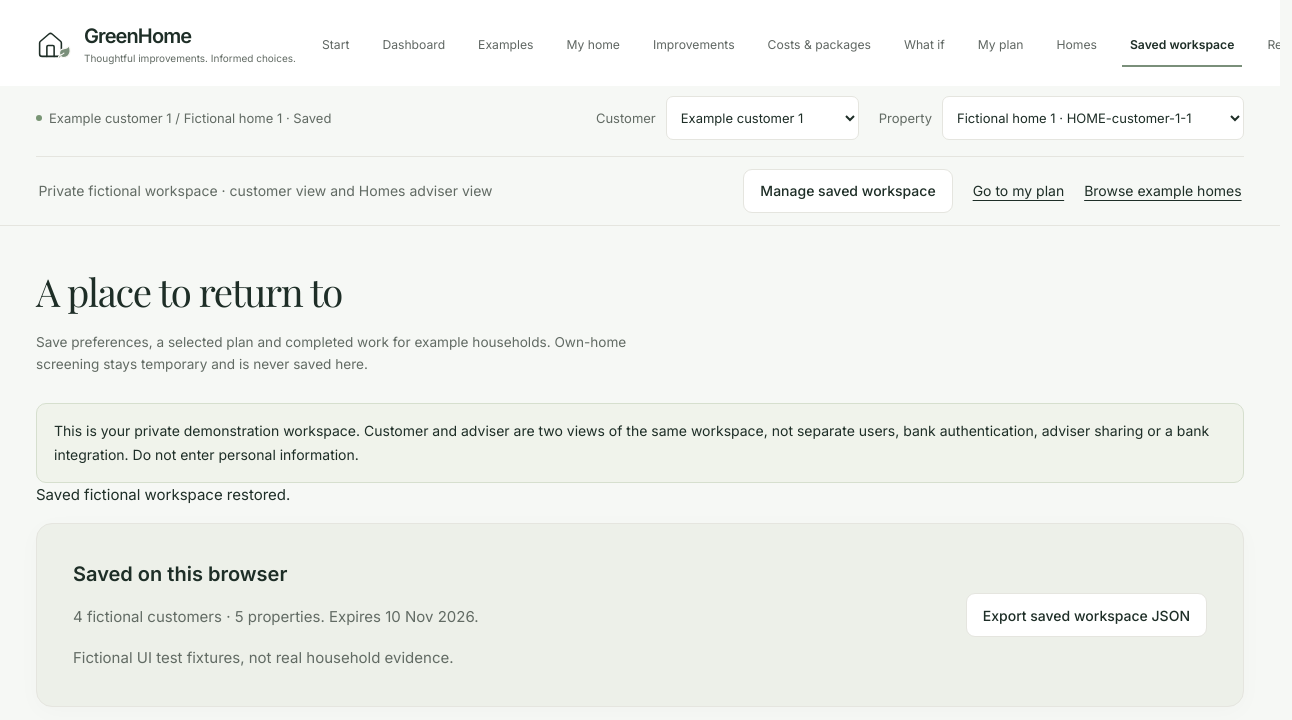
customer-wide settings, independent budgets and asynchronous boundaries › prints owner/property identifiers and distinguishes active-plan budget from reserved completed costs
expect the dropdown labelled "Customer" is enabled: met, box [666,96,859,140]
What coordinates should you click on to do the following:
click the link "My plan"
I would click on:
 (1001, 44)
Its box is [978,36,1024,52].
(page scrolled)
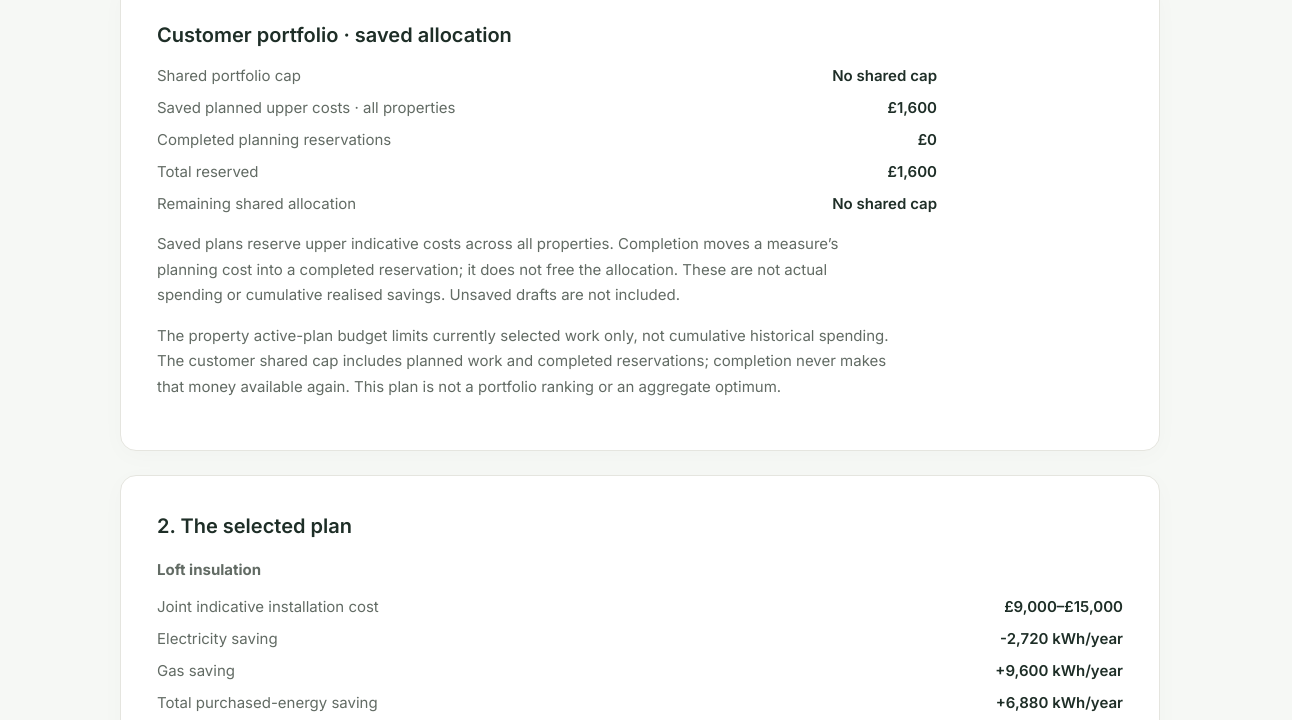
expect the text "Completed planning reservations" is shown: met, box [157,130,391,149]
expect the text "completion never makes that money available again" is shown: met, box [157,326,889,396]
